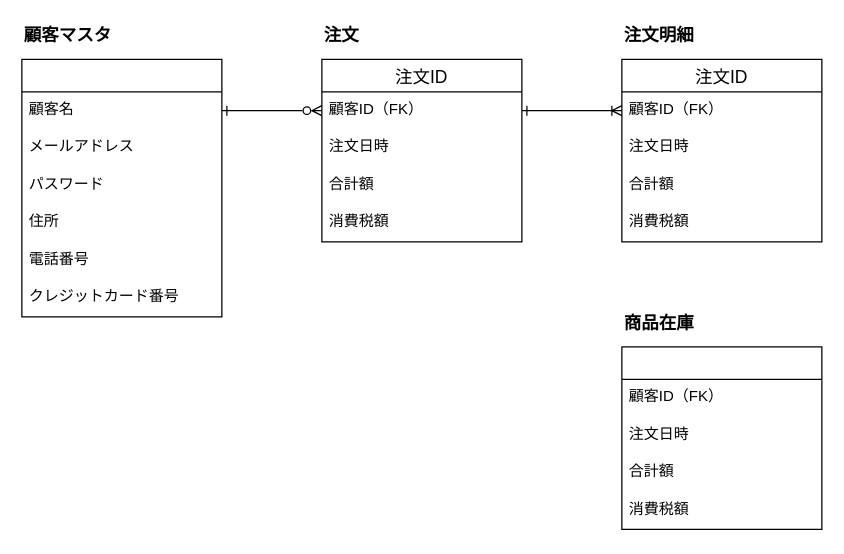
Image size: 844x554. Some labels were removed from this diagram. The shapes that lost their labels are listed below. From the top down, each one's box as (x1, y1, x2, y2) in pixels, then its label:
(21, 58, 222, 317): 顧客ID
(621, 346, 822, 529): 商品ID
